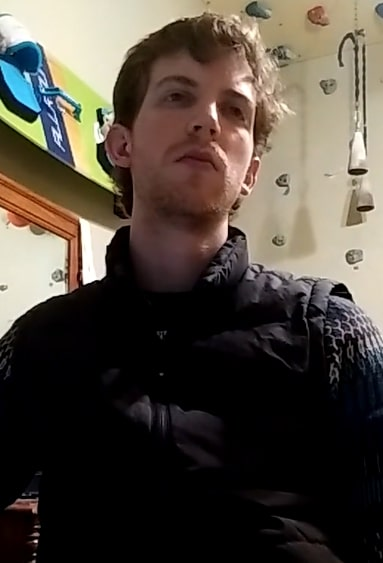Not Sleeping: (142, 81, 261, 133)
